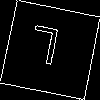L: (25, 25, 61, 75)
